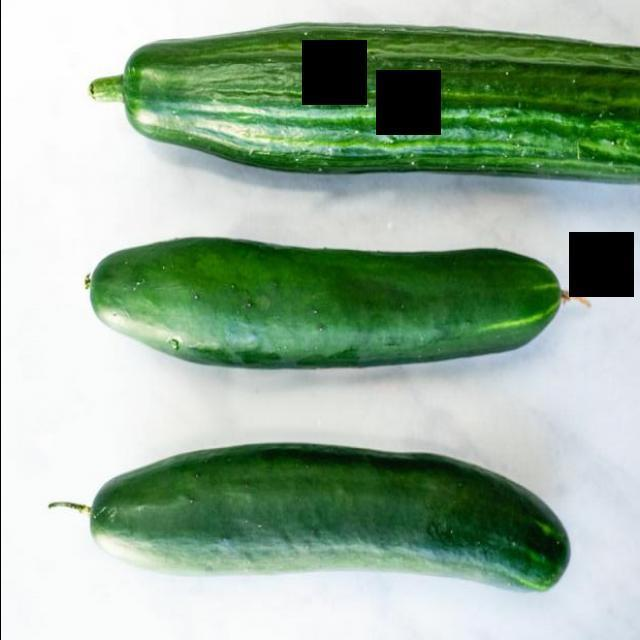cucumber: (83, 16, 640, 196), (74, 438, 576, 610), (80, 226, 580, 376)
